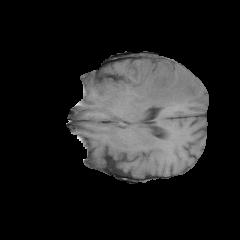glioma: (128, 59, 197, 109)
